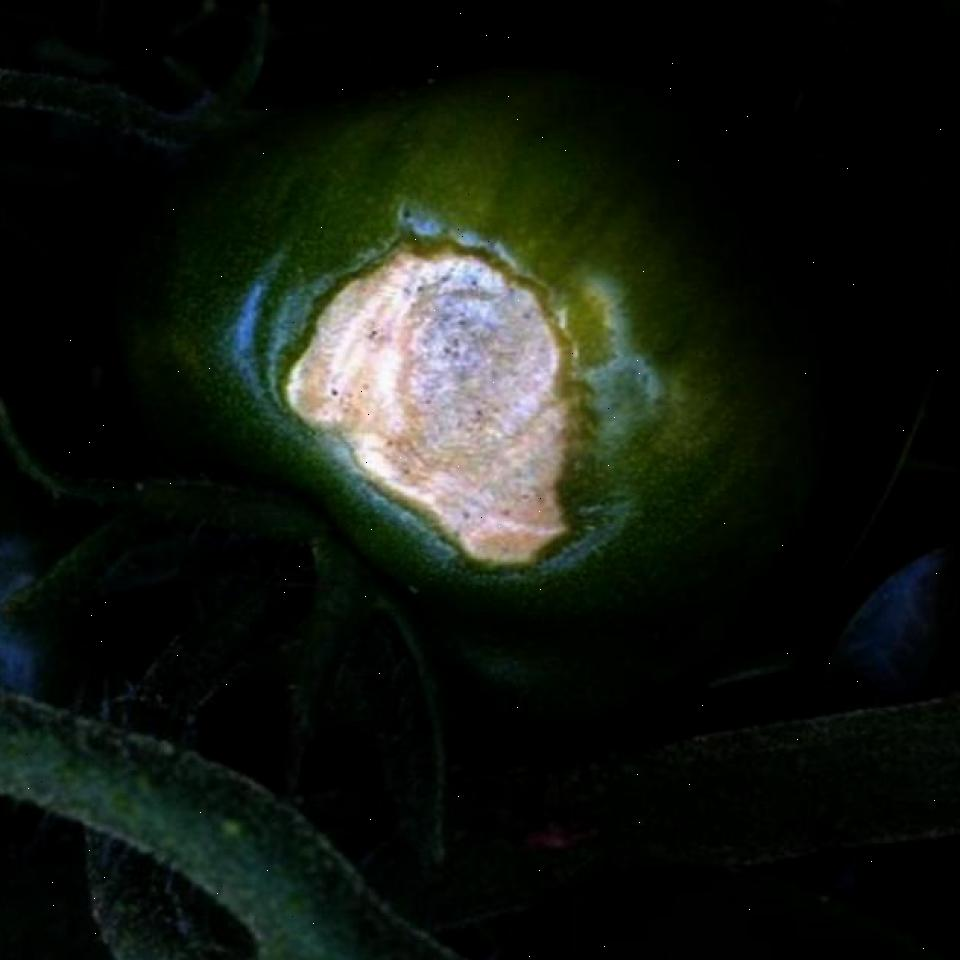Sunscald: (272, 220, 588, 576)
